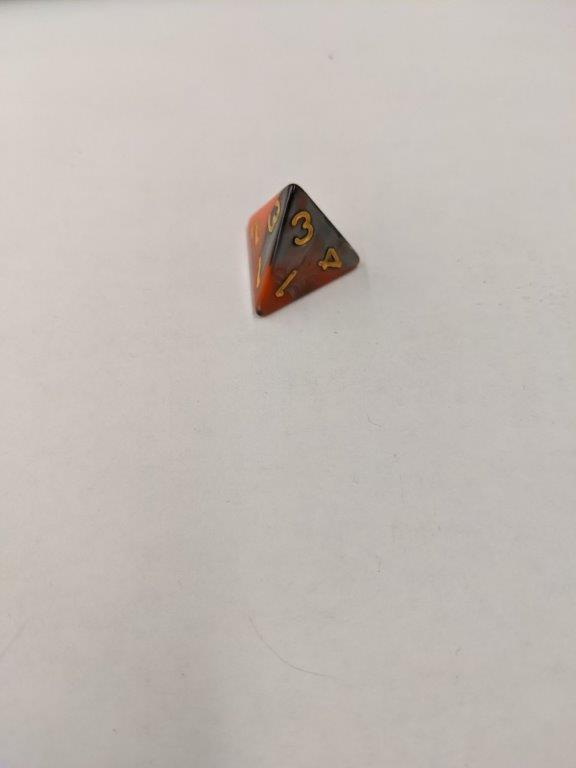d4-3: (242, 179, 364, 320)
